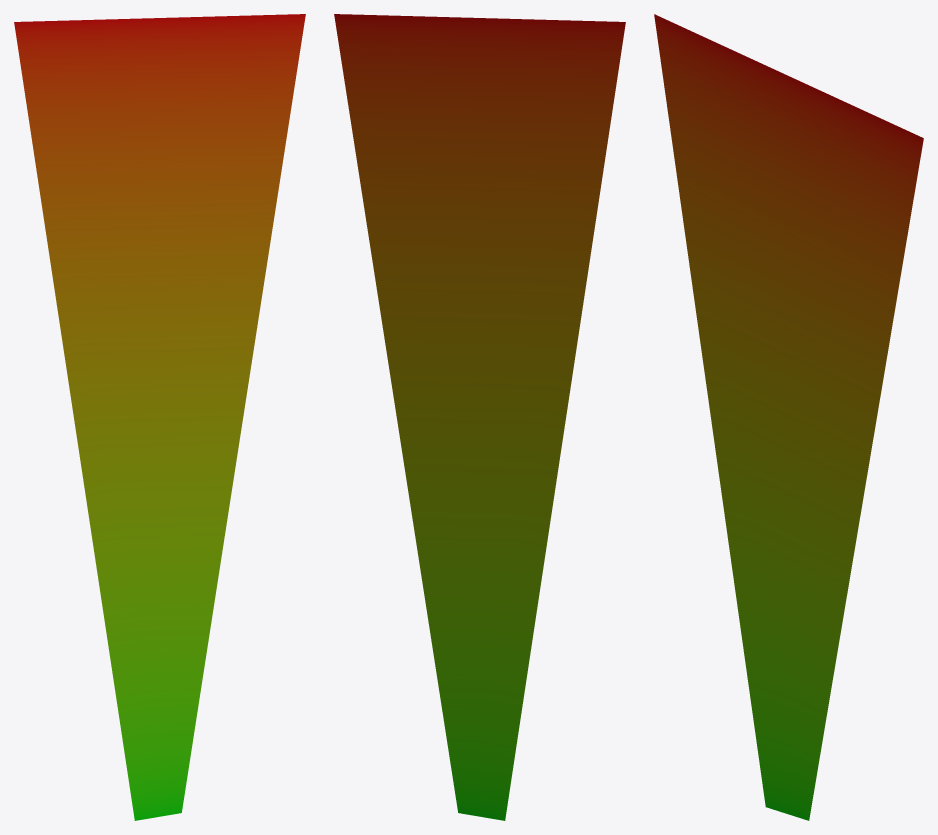
Rendered from Sea Wheatgrass_LOD3_Var13_ui2oagjia.fbx.
3 renders of one model, left to right at view 1: azimuth 30°, elevation 25°; view 2: azimuth 150°, elevation 25°; view 3: azimuth 330°, elevation 25°, orthographic. The views are drawn at different scales.
Parts seen in each view (by area): view 1: _yyla_Var13_LOD3; view 2: _yyla_Var13_LOD3; view 3: _yyla_Var13_LOD3.
Boxes of the visible parts, x1,y1,x2,y2 form: _yyla_Var13_LOD3: [14, 14, 305, 820]; _yyla_Var13_LOD3: [334, 14, 625, 820]; _yyla_Var13_LOD3: [654, 14, 923, 820].
Bounding box in the file's own units: 12.91 × 35.17 × 1.36e-06.
